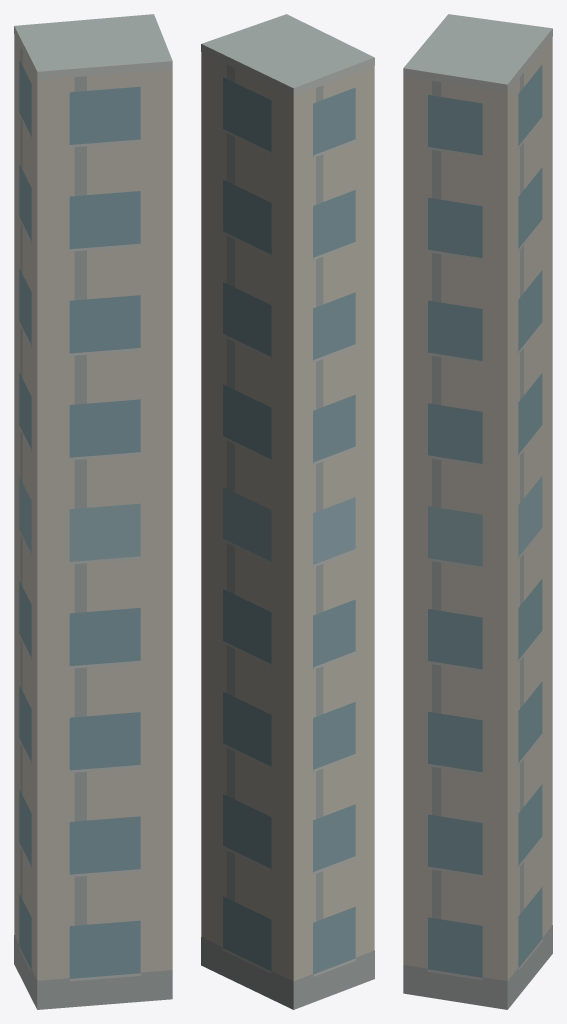
File: survey-upis-32873544.glb
3 renders of one model, left to right at view 1: azimuth 30°, elevation 25°; view 2: azimuth 150°, elevation 25°; view 3: azimuth 270°, elevation 25°, orthographic.
Parts seen in each view (by area): view 1: survey-upis-32873544.tmp; view 2: survey-upis-32873544.tmp; view 3: survey-upis-32873544.tmp.
Boxes of the visible parts, <box> form: survey-upis-32873544.tmp: <box>14,14,172,1009</box>; survey-upis-32873544.tmp: <box>201,14,374,1009</box>; survey-upis-32873544.tmp: <box>403,14,552,1009</box>.
Size of the model in its own units: 4.5 by 27.45 by 4.03.
